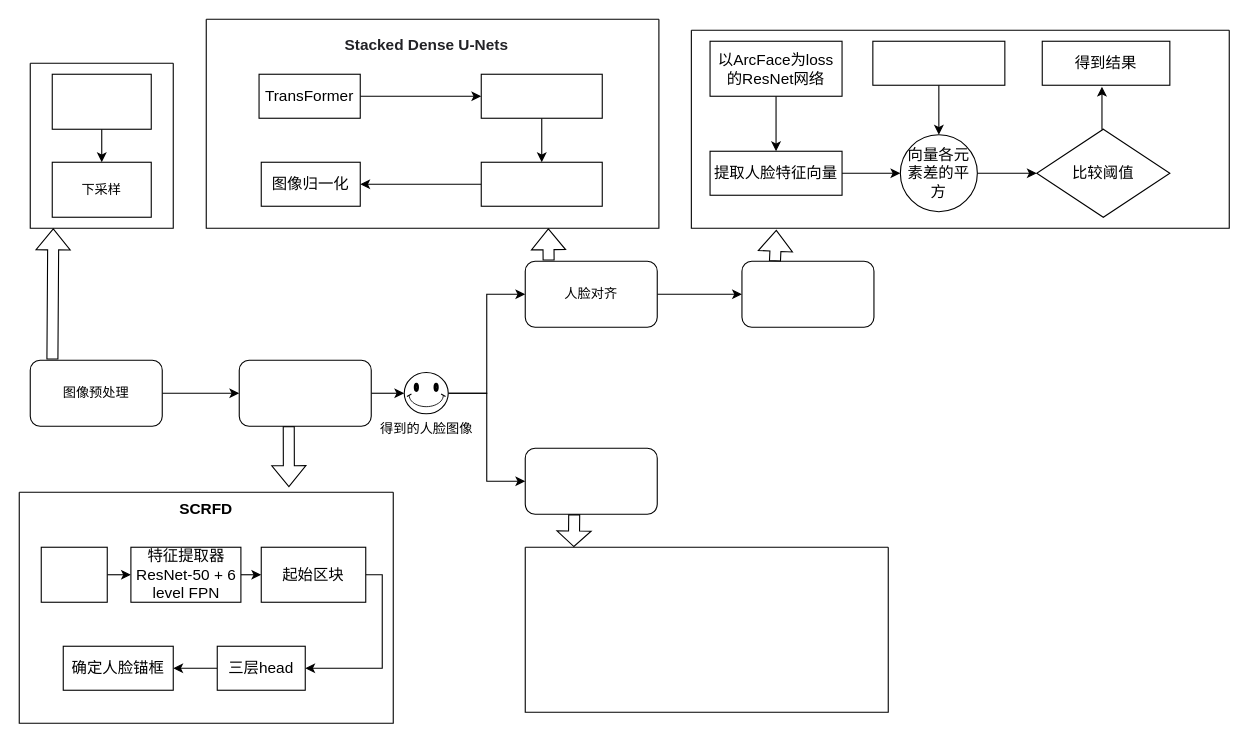
The diagram is 1249 pixels wide and 743 high, and some of its shapes have lost their labels. The box of each missing label's shape, as (x1, y1, x2, y2) in pixels:
两个堆叠的 U-Net: (480, 73, 602, 118)
二值化: (40, 546, 107, 602)
人脸检测: (238, 359, 371, 426)
人脸活体检测: (524, 447, 657, 514)
人脸识别: (741, 260, 874, 327)
原有的向量: (872, 40, 1005, 85)
得到人脸关键点: (480, 161, 602, 206)
读入图像: (51, 73, 151, 129)
